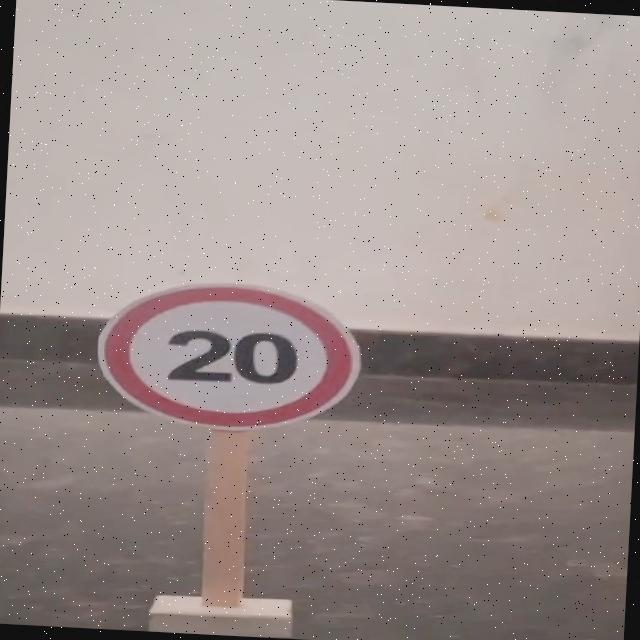Speed20: (83, 272, 380, 442)
